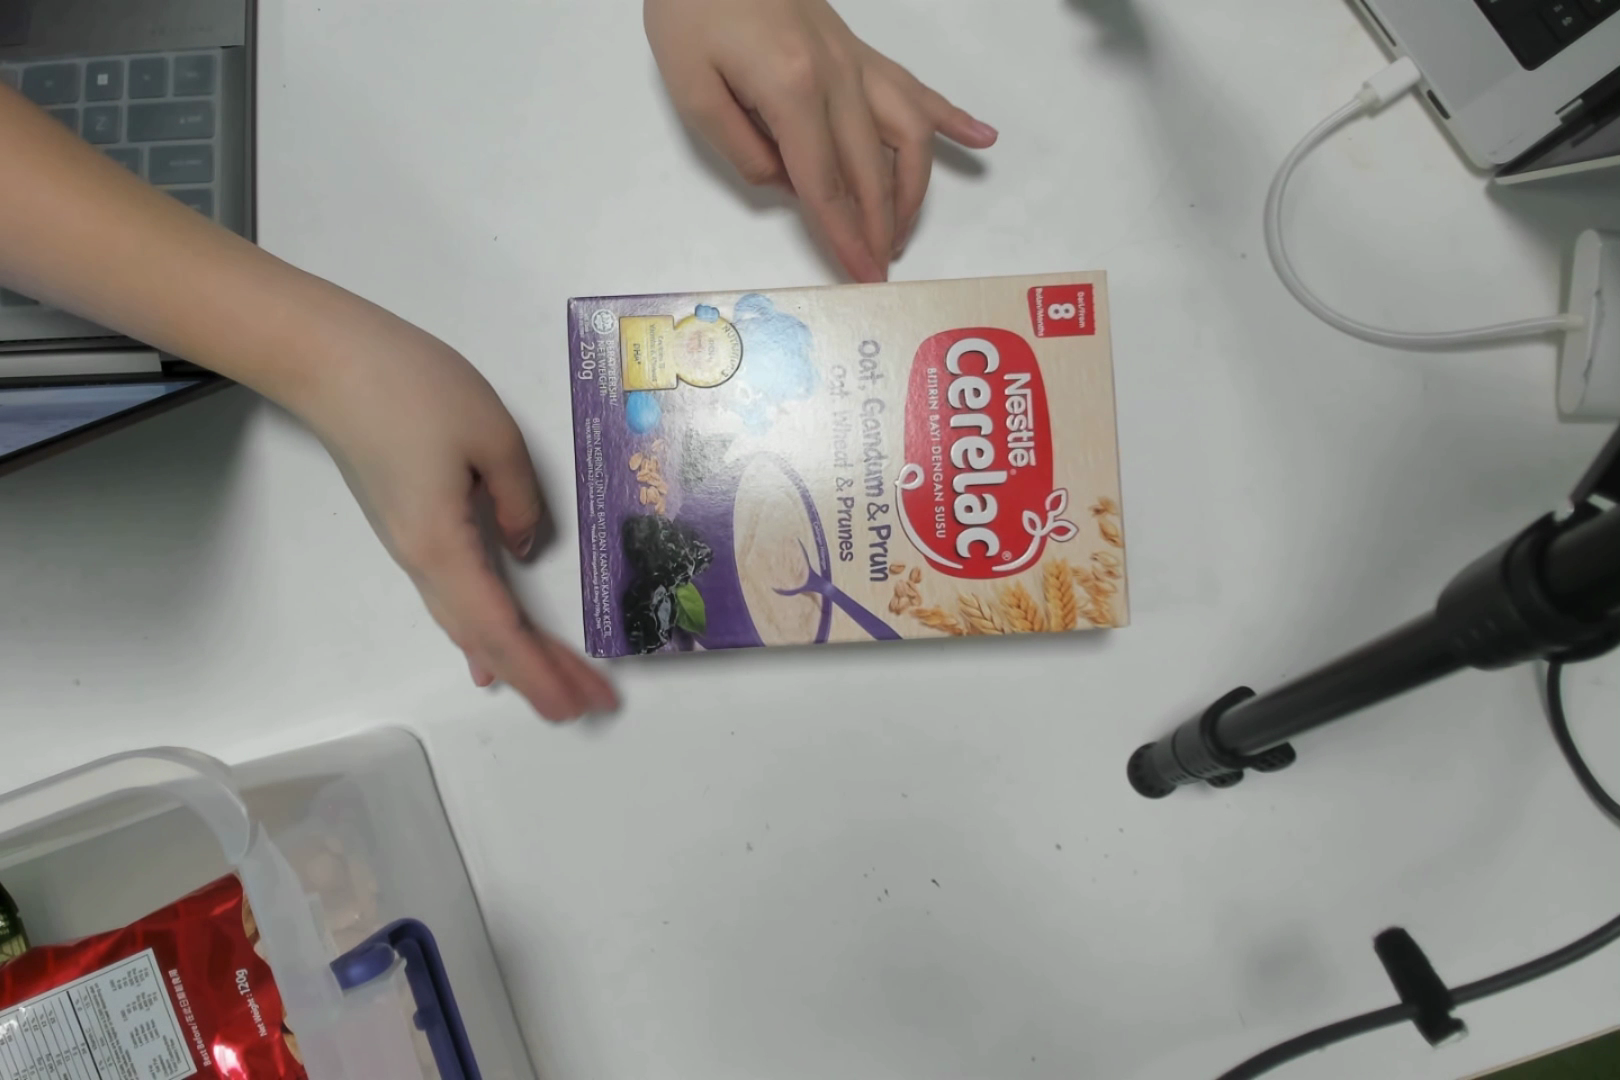d: (574, 278, 1123, 642)
